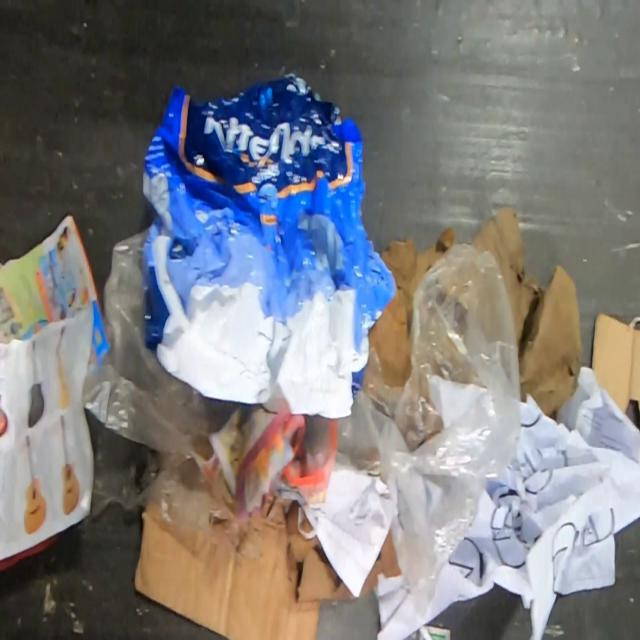cardboard: (134, 477, 403, 639), (467, 205, 584, 416), (369, 226, 456, 385), (591, 311, 639, 417)
soft_plastic: (140, 70, 397, 418), (304, 240, 522, 622), (81, 225, 241, 530)
